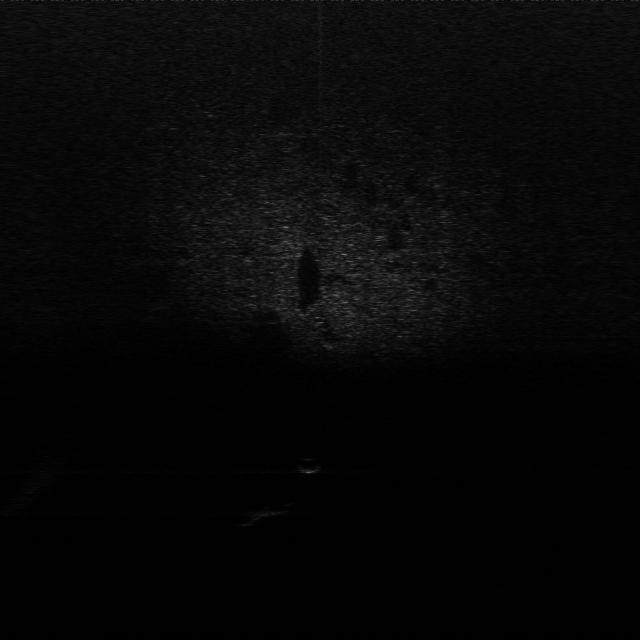ball: (294, 454, 324, 477)
square cage: (248, 500, 291, 526)
